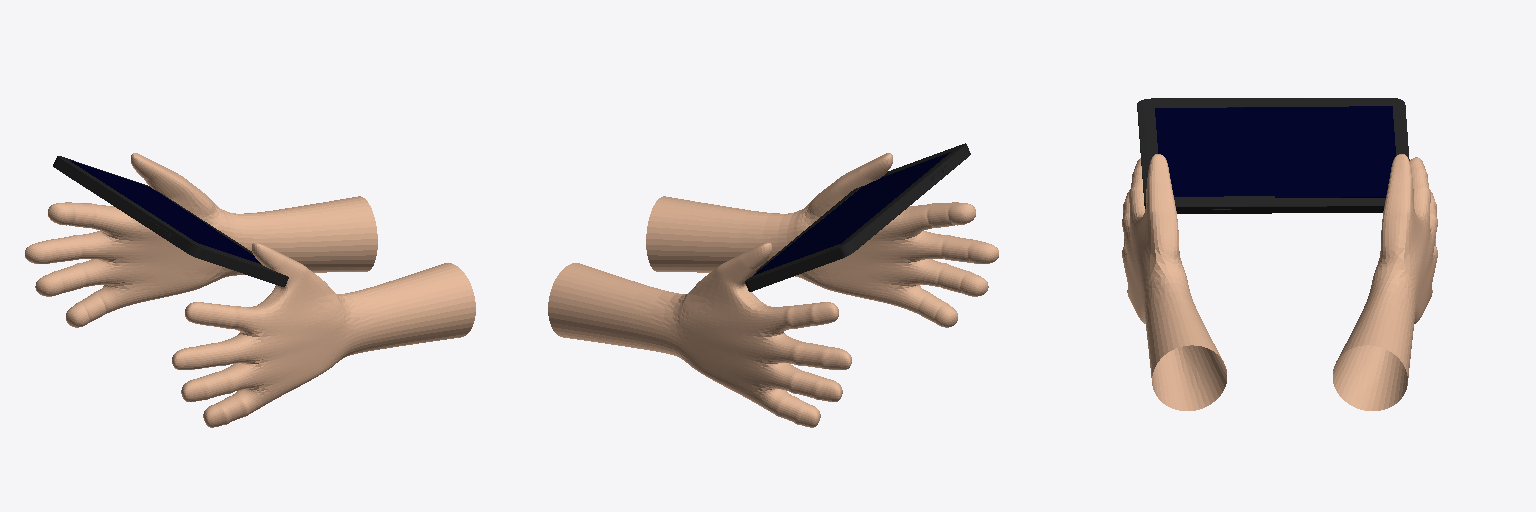
File: Hand3.obj
The picture shows the model from 3 angles: view 1: azimuth 30°, elevation 25°; view 2: azimuth 150°, elevation 25°; view 3: azimuth 270°, elevation 25°; orthographic projection.
Visible parts, largest first — view 1: Default, TelephoneBase, Screen; view 2: Default, TelephoneBase, Screen; view 3: Default, Screen, TelephoneBase.
Part boxes in pixels (x1,y1,x2,y2): Default: (25, 153, 475, 427); TelephoneBase: (53, 156, 288, 286); Screen: (70, 160, 260, 263); Default: (548, 153, 998, 427); TelephoneBase: (745, 143, 970, 291); Screen: (754, 152, 950, 274); Default: (1122, 154, 1437, 410); Screen: (1155, 106, 1395, 197); TelephoneBase: (1137, 98, 1409, 213).
Bounding box in the file's own units: 2059 × 1176 × 1800.